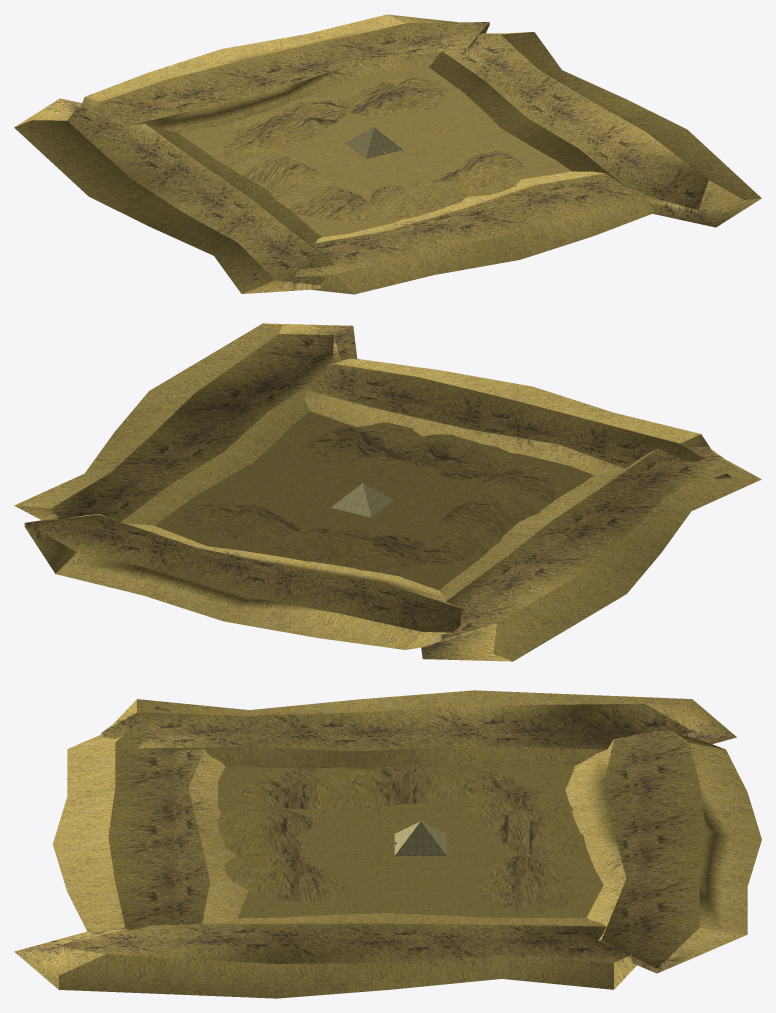
The model's file is ENVO_tomb.obj.
The picture shows the model from 3 angles, top to bottom: view 1: azimuth 30°, elevation 25°; view 2: azimuth 150°, elevation 25°; view 3: azimuth 270°, elevation 25°; orthographic projection. The views are drawn at different scales.
Parts seen in each view (by area): view 1: tomb; view 2: tomb; view 3: tomb.
Boxes of the visible parts, x1=… form: tomb: x1=14, y1=14, x2=761, y2=294; tomb: x1=14, y1=323, x2=761, y2=661; tomb: x1=14, y1=690, x2=761, y2=998.
Size of what is drawn, in the model's own units: 57563 by 2262 by 59031.
Materials: 10 (10 with a texture image).
